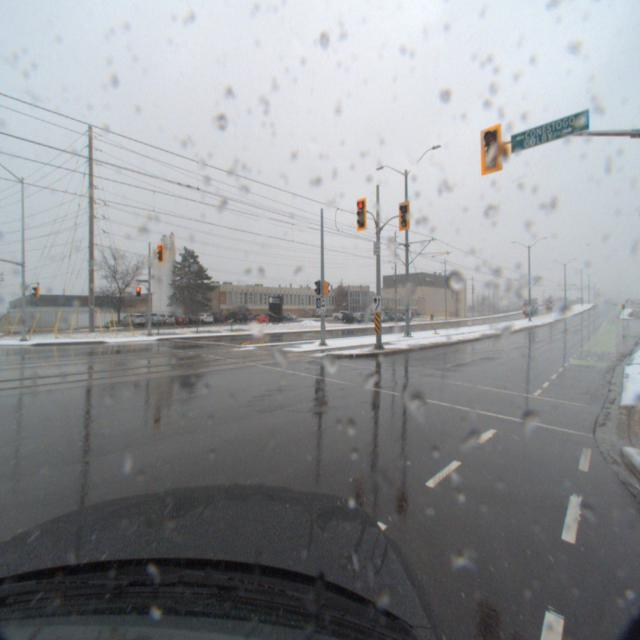Car: (114, 314, 144, 330)
